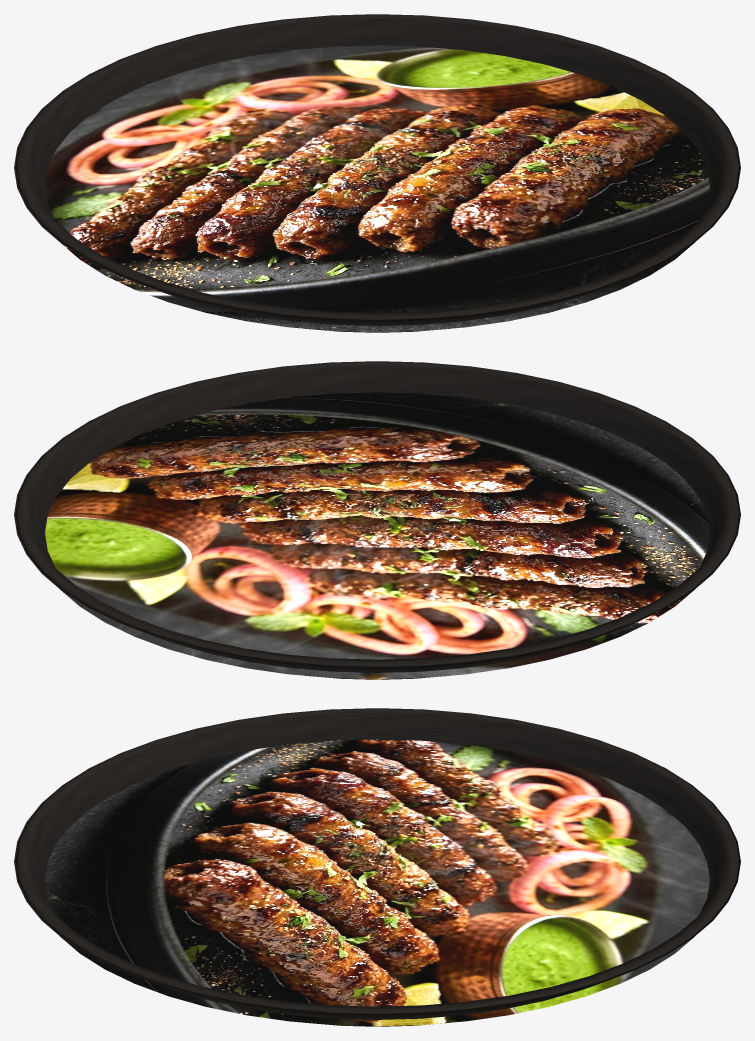
Rendered from mutton-seekh-kebab.glb.
3 views of the same model, one above another, from view 1: azimuth 30°, elevation 25°; view 2: azimuth 150°, elevation 25°; view 3: azimuth 270°, elevation 25° (orthographic).
Visible parts, largest first — view 1: FoodMound, StonewareVessel; view 2: FoodMound, StonewareVessel; view 3: FoodMound, StonewareVessel.
Part boxes in pixels (x1,y1,x2,y2): FoodMound: [45, 45, 709, 332]; StonewareVessel: [14, 14, 740, 332]; FoodMound: [45, 392, 709, 679]; StonewareVessel: [14, 361, 740, 679]; FoodMound: [45, 739, 709, 1026]; StonewareVessel: [14, 708, 740, 1026].
Bounding box in the file's own units: 0.28 × 0.0225 × 0.28.
2 materials, 2 textured.
